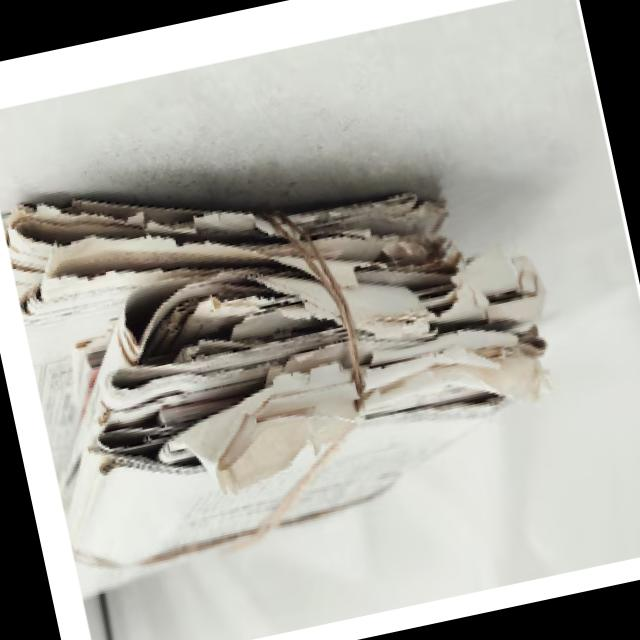Koran: (0, 102, 585, 598)
